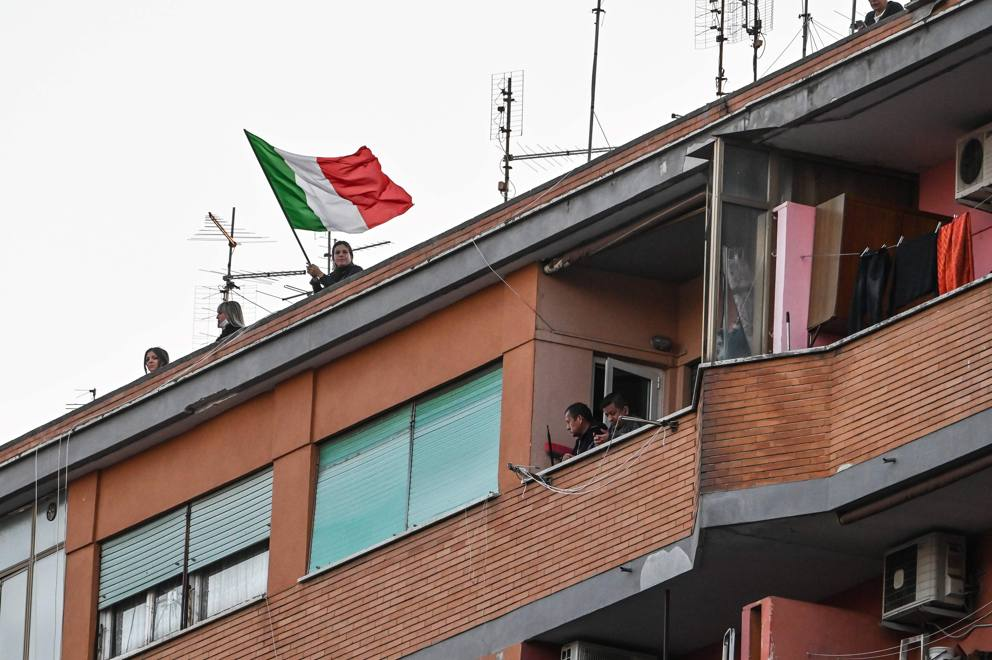Flag: (241, 129, 416, 236)
